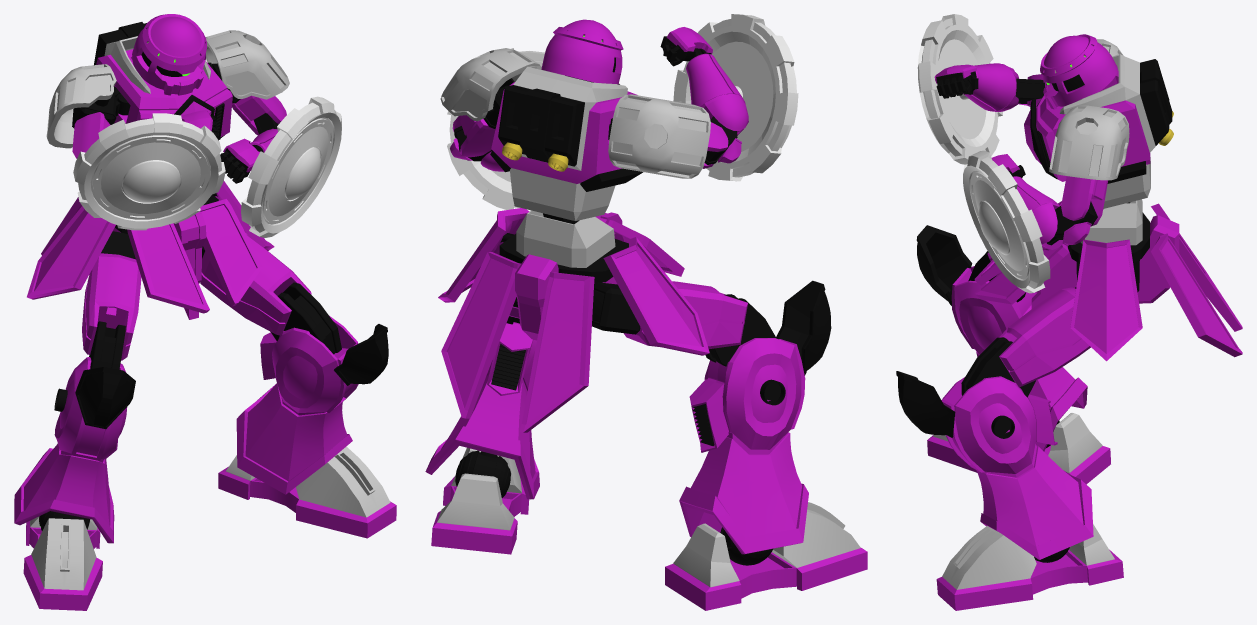
Rendered from Pawn_GuardType.fbx.
The picture shows the model from 3 angles, left to right: view 1: azimuth 30°, elevation 25°; view 2: azimuth 150°, elevation 25°; view 3: azimuth 270°, elevation 25°; orthographic projection. The views are drawn at different scales.
Parts seen in each view (by area): view 1: Box247, Shield_GuardType003, Box253, Shield_GuardType004, Front-Skirt_GuardType002, cabeza_Armor_GuardType002, Box250, Box257, Sphere054, Sphere053, pecho_InnerFrame004, Shoulder_Armor_GuardType004 (+17 smaller); view 2: Box253, Back-Skirt_GuardType002, Shield_GuardType003, Box247, pecho_InnerFrame004, Shoulder_Armor_GuardType003, Box250, Sphere054, Box260, Box261, Sphere053, Object106 (+18 smaller); view 3: Box247, Shield_GuardType003, Shield_GuardType004, Box249, Box253, Box245, Shoulder_Armor_GuardType004, Sphere053, Back-Skirt_GuardType002, pecho_InnerFrame004, Box248, cabeza_Armor_GuardType002 (+19 smaller).
Part boxes in pixels (x1,y1,x2,y2): Box247: [236, 316, 358, 494]; Shield_GuardType003: [73, 113, 225, 230]; Box253: [14, 357, 127, 543]; Shield_GuardType004: [241, 96, 341, 237]; Front-Skirt_GuardType002: [127, 199, 262, 313]; cabeza_Armor_GuardType002: [132, 14, 206, 95]; Box250: [27, 206, 115, 299]; Box257: [82, 253, 141, 360]; Sphere054: [30, 511, 97, 590]; Sphere053: [226, 446, 390, 517]; pecho_InnerFrame004: [96, 49, 232, 139]; Shoulder_Armor_GuardType004: [205, 30, 289, 99]; Box253: [679, 338, 808, 554]; Back-Skirt_GuardType002: [441, 252, 594, 432]; Shield_GuardType003: [673, 14, 798, 181]; Box247: [425, 322, 539, 499]; pecho_InnerFrame004: [490, 82, 643, 220]; Shoulder_Armor_GuardType003: [608, 94, 710, 178]; Box250: [603, 237, 709, 355]; Sphere054: [673, 502, 860, 587]; Box260: [665, 548, 867, 610]; Box261: [498, 85, 584, 166]; Sphere053: [437, 447, 521, 530]; Object106: [516, 210, 615, 267]; Box247: [941, 376, 1093, 559]; Shield_GuardType003: [917, 14, 1002, 164]; Shield_GuardType004: [963, 150, 1050, 293]; Box249: [1070, 239, 1142, 361]; Box253: [951, 266, 1087, 451]; Box245: [999, 287, 1090, 387]; Shoulder_Armor_GuardType004: [1049, 105, 1129, 180]; Sphere053: [942, 524, 1114, 589]; Back-Skirt_GuardType002: [1151, 203, 1242, 357]; pecho_InnerFrame004: [1024, 70, 1150, 208]; Box248: [936, 549, 1123, 610]; cabeza_Armor_GuardType002: [1040, 34, 1117, 109].
Bounding box in the file's own units: 867 × 1150 × 730.
